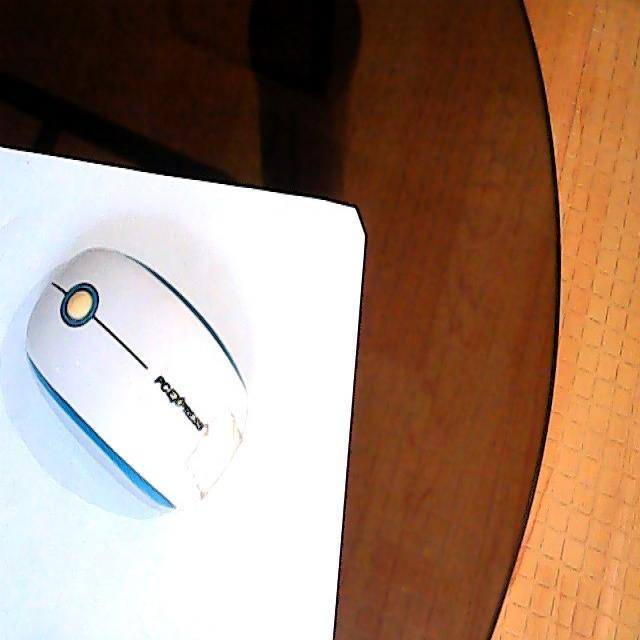Mouse: (25, 244, 251, 512)
